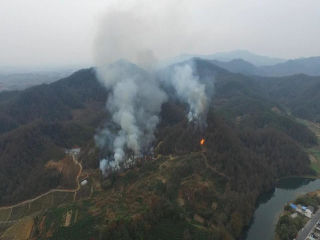smoke: (87, 7, 168, 175), (173, 63, 214, 130)
